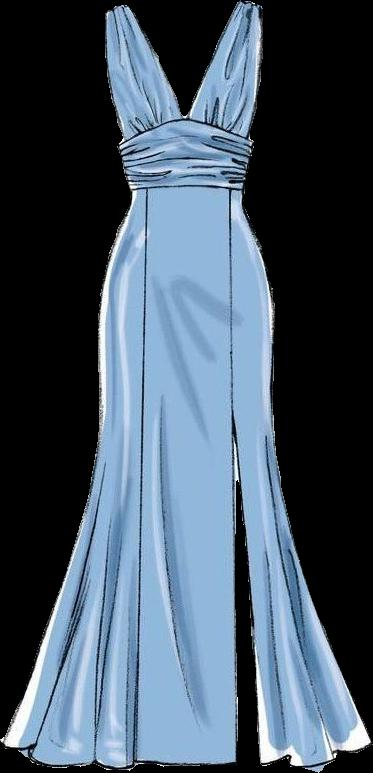Bodice: (105, 1, 262, 193)
Hemline: (1, 427, 372, 772)
Neckline: (123, 0, 250, 123), (115, 115, 252, 147)
Skirt: (1, 188, 369, 771)
Waistline: (128, 182, 246, 199)
